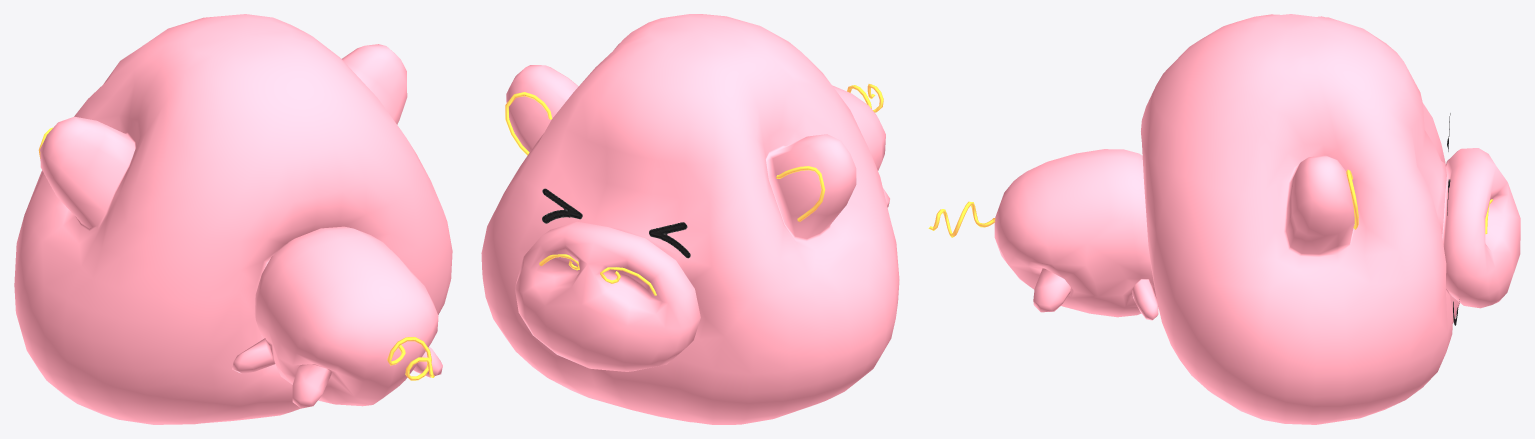
The model's file is inflatable-pig.glb.
The picture shows the model from 3 angles, left to right: view 1: azimuth 30°, elevation 25°; view 2: azimuth 150°, elevation 25°; view 3: azimuth 270°, elevation 25°; orthographic projection. The views are drawn at different scales.
Visible parts, largest first — view 1: Deco03_Export, BézierCurve; view 2: Deco03_Export, BézierCurve, Deco01.009; view 3: Deco03_Export, BézierCurve.
Part boxes in pixels (bbox=[...]): Deco03_Export: bbox=[14, 14, 452, 424]; BézierCurve: bbox=[38, 127, 434, 380]; Deco03_Export: bbox=[481, 14, 899, 424]; BézierCurve: bbox=[505, 84, 883, 295]; Deco01.009: bbox=[542, 188, 690, 258]; Deco03_Export: bbox=[994, 14, 1520, 424]; BézierCurve: bbox=[928, 169, 1492, 237].
Size of the model in its own units: 8.23 by 7.44 by 11.24.
3 materials, 1 textured.
